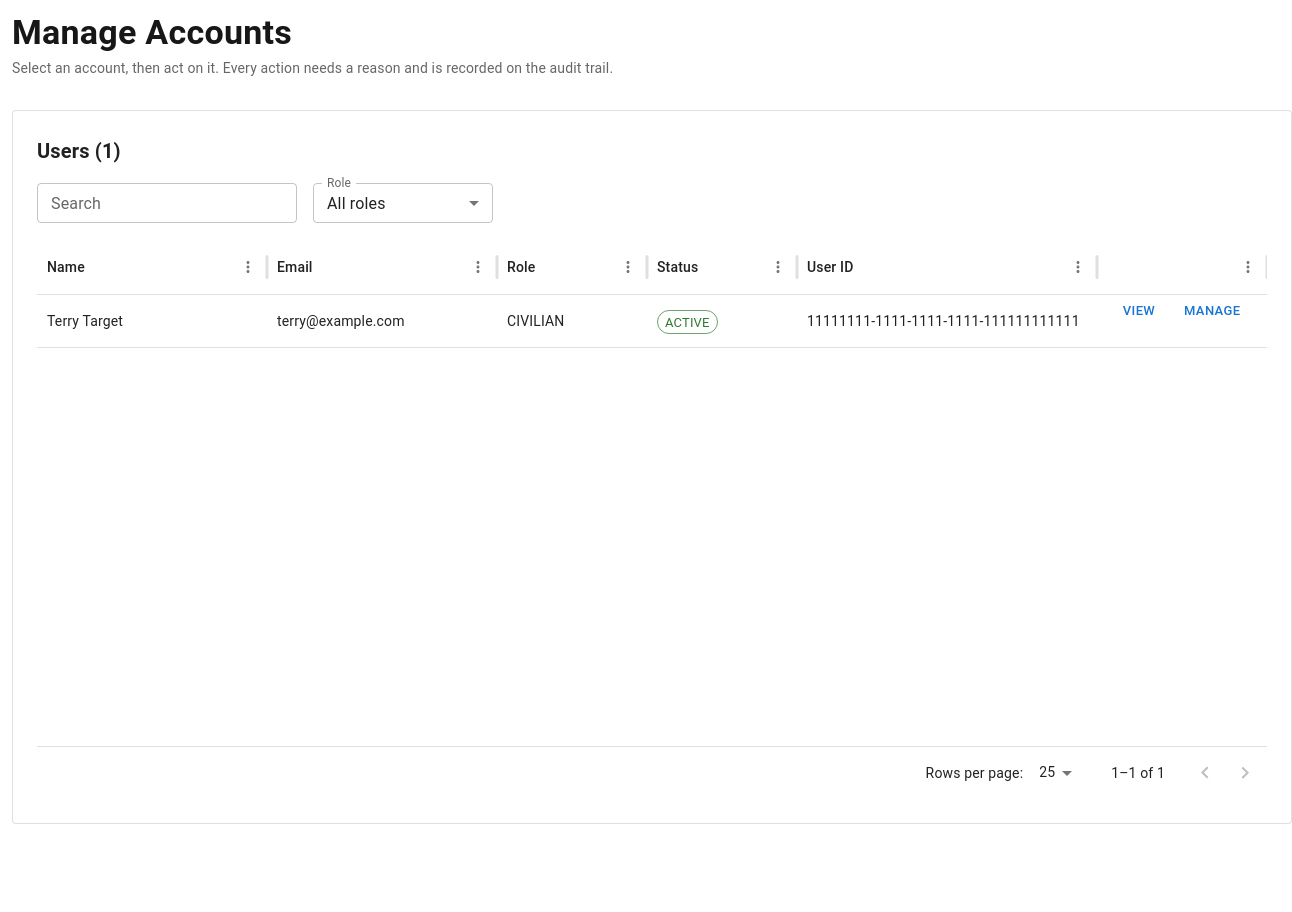
it: SecurityAccountPage › filters out the row when searching for a non-matching term
This screenshot has width=1292, height=912.
Type "nobody-matches-this" into the field labelled "Search" at x=167, y=203, box [37, 183, 297, 223]
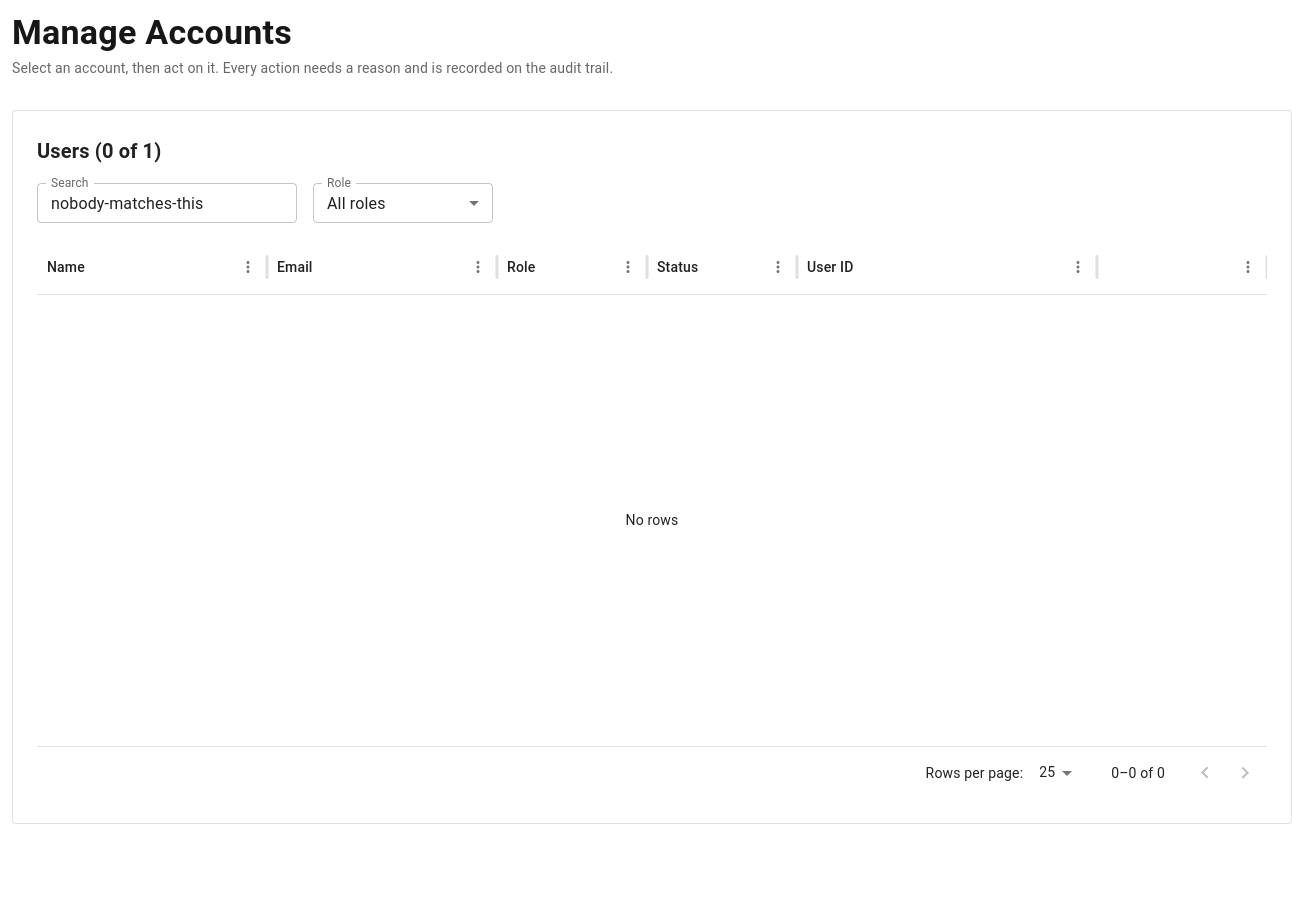
Now the text "Terry Target" is gone
